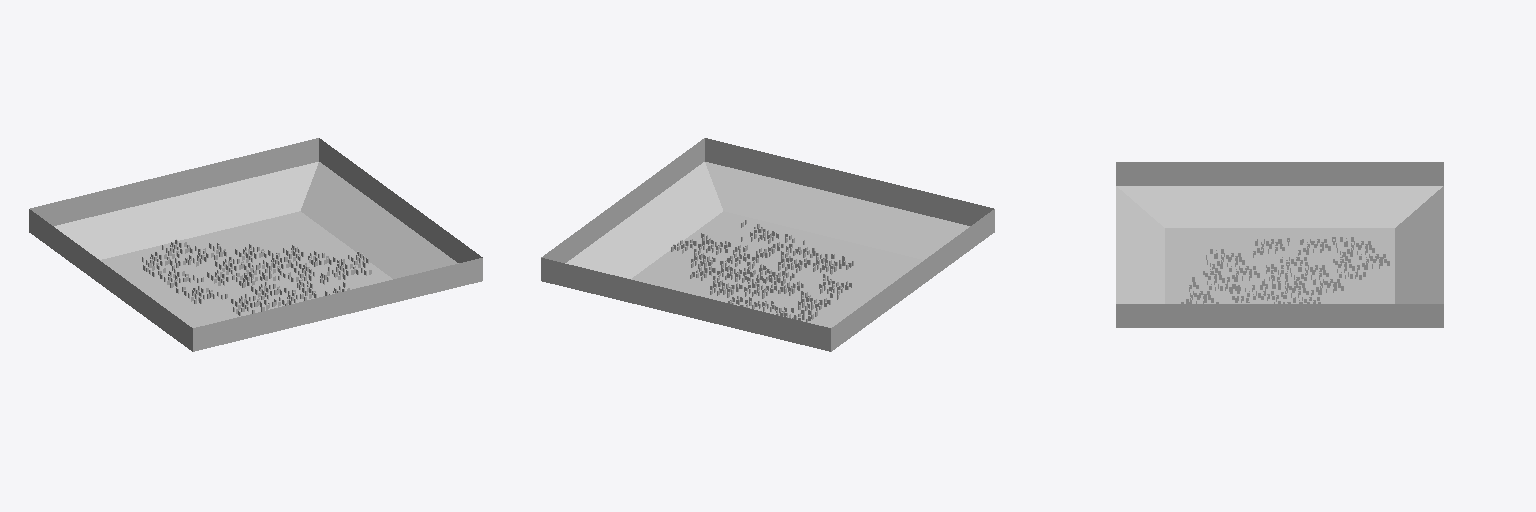
Rendered from nivel4.obj.
3 views of the same model, side by side, from view 1: azimuth 30°, elevation 25°; view 2: azimuth 150°, elevation 25°; view 3: azimuth 270°, elevation 25° (orthographic).
Parts seen in each view (by area): view 1: Object001; view 2: Object001; view 3: Object001.
Boxes of the visible parts, x1,y1,x2,y2 form: Object001: [29, 138, 482, 351]; Object001: [541, 138, 994, 351]; Object001: [1116, 162, 1443, 327].
Size of the model in its own units: 1623 by 245 by 1585.